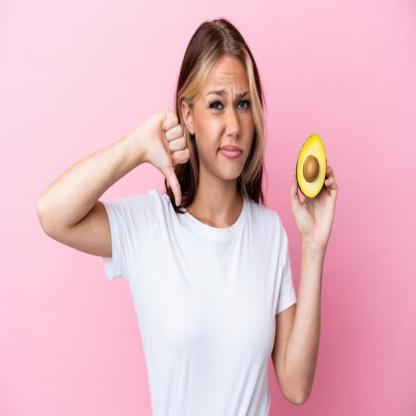thumb_down: (142, 105, 194, 209)
